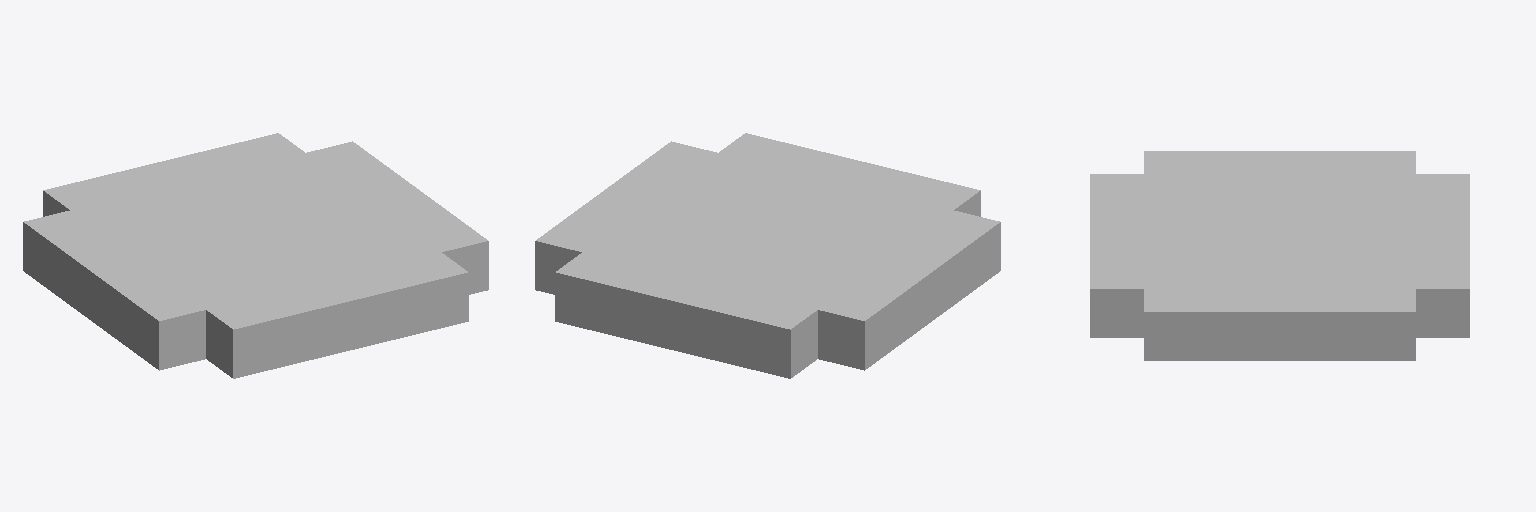
File: Coin.obj
3 views of the same model, side by side, from view 1: azimuth 30°, elevation 25°; view 2: azimuth 150°, elevation 25°; view 3: azimuth 270°, elevation 25° (orthographic).
Visible parts, largest first — view 1: Coin; view 2: Coin; view 3: Coin.
Boxes of the visible parts, x1,y1,x2,y2 form: Coin: [23, 133, 488, 378]; Coin: [535, 133, 1000, 378]; Coin: [1090, 151, 1469, 360].
Bounding box in the file's own units: 7 × 1 × 7.